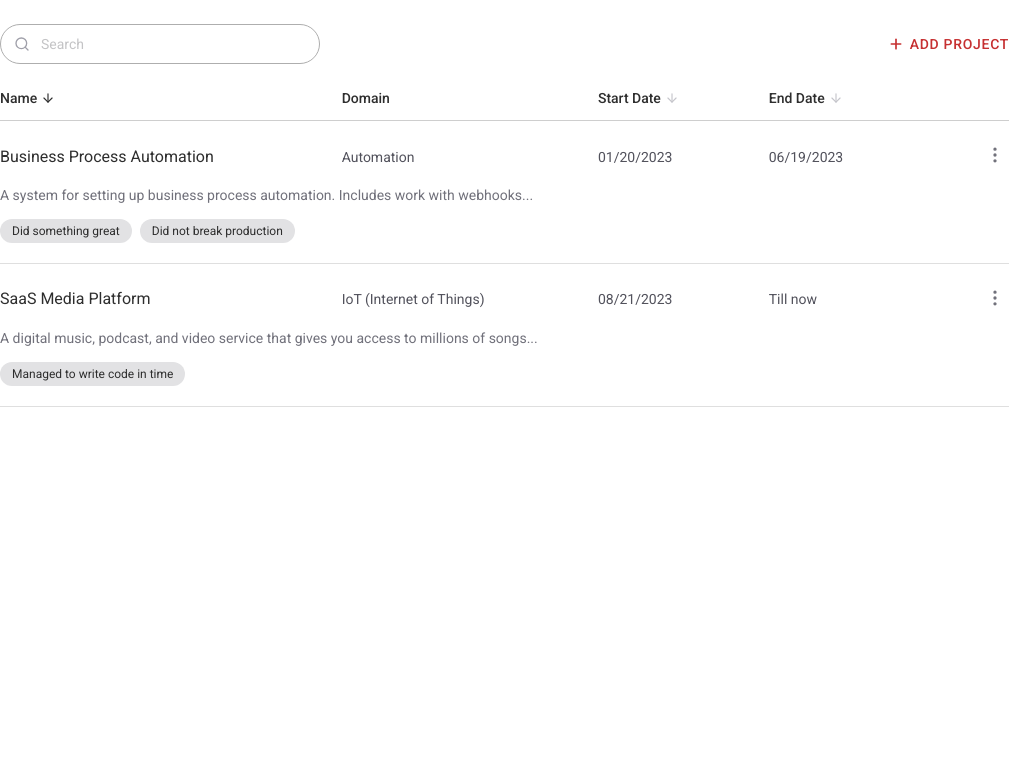
Test: CVProjectsView Component › opens Add Project modal when + ADD PROJECT button is clicked
Click the button "Add Project" at {"x": 948, "y": 44}, box [888,26,1009,62]
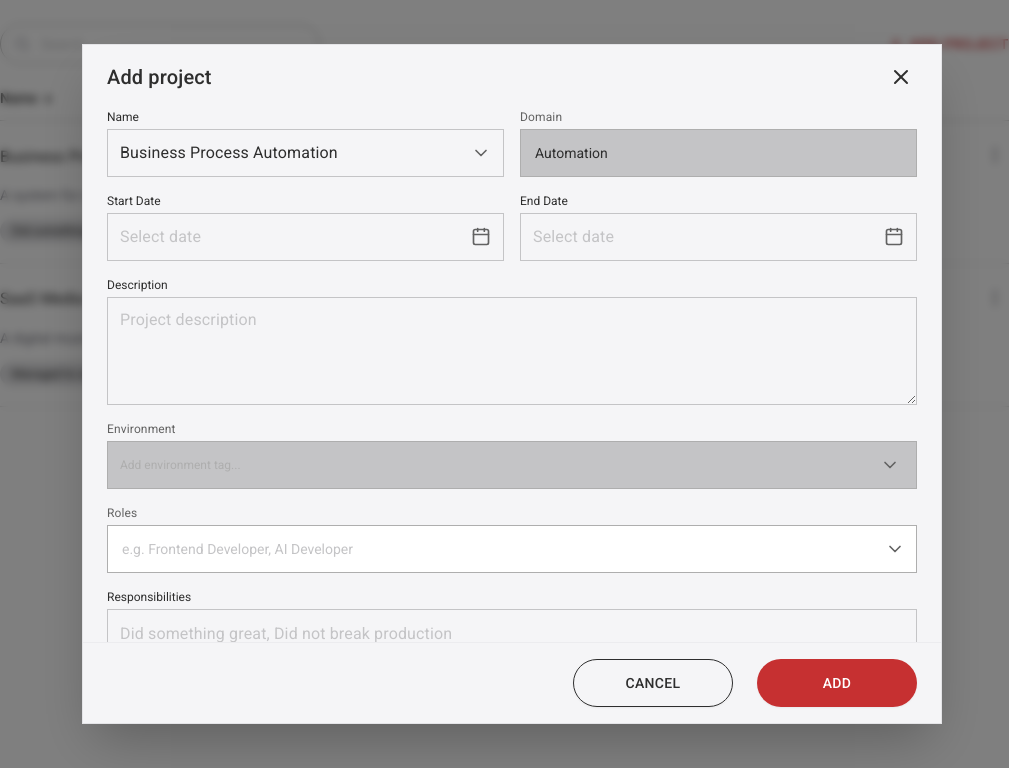
Expected: the dialog is shown
Expected: the heading "Add project" is shown, [107,65,212,89]
